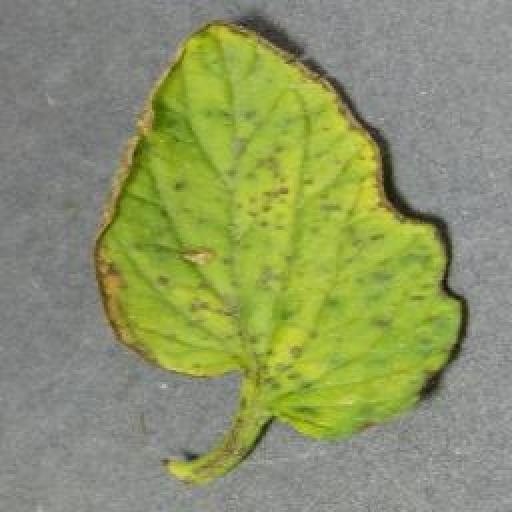Bacterial Spot: (87, 16, 473, 448)
